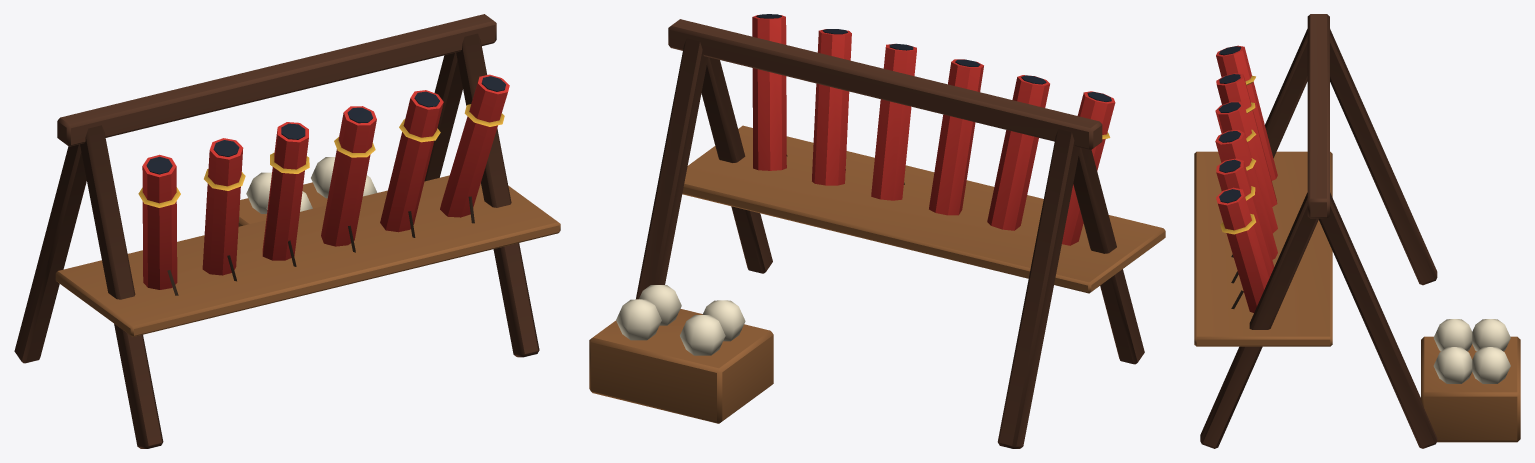
The model's file is fireworks-rack.glb.
3 renders of one model, left to right at view 1: azimuth 30°, elevation 25°; view 2: azimuth 150°, elevation 25°; view 3: azimuth 270°, elevation 25°, orthographic. The views are drawn at different scales.
Parts seen in each view (by area): view 1: Fireworks rack Dark wood, Fireworks rack Wood, Fireworks rack Fabric red, Fireworks rack Tube inside, Fireworks rack Cream paint, Fireworks rack Mustard paint, Fireworks rack Fuse; view 2: Fireworks rack Wood, Fireworks rack Dark wood, Fireworks rack Fabric red, Fireworks rack Cream paint, Fireworks rack Tube inside; view 3: Fireworks rack Dark wood, Fireworks rack Wood, Fireworks rack Fabric red, Fireworks rack Cream paint, Fireworks rack Tube inside, Fireworks rack Mustard paint.
Part boxes in pixels (left/top/right/bottom): Fireworks rack Dark wood: left=14, top=14, right=539, bottom=448; Fireworks rack Wood: left=55, top=175, right=560, bottom=336; Fireworks rack Fabric red: left=142, top=74, right=509, bottom=289; Fireworks rack Tube inside: left=146, top=76, right=505, bottom=174; Fireworks rack Cream paint: left=246, top=157, right=377, bottom=213; Fireworks rack Mustard paint: left=138, top=104, right=504, bottom=207; Fireworks rack Fuse: left=167, top=196, right=474, bottom=295; Fireworks rack Wood: left=589, top=125, right=1165, bottom=423; Fireworks rack Dark wood: left=636, top=19, right=1144, bottom=448; Fireworks rack Fabric red: left=752, top=15, right=1115, bottom=245; Fireworks rack Cream paint: left=616, top=285, right=745, bottom=355; Fireworks rack Tube inside: left=756, top=14, right=1111, bottom=101; Fireworks rack Dark wood: left=1200, top=14, right=1437, bottom=448; Fireworks rack Wood: left=1194, top=151, right=1520, bottom=442; Fireworks rack Fabric red: left=1215, top=45, right=1277, bottom=312; Fireworks rack Cream paint: left=1433, top=319, right=1510, bottom=383; Fireworks rack Tube inside: left=1218, top=46, right=1241, bottom=203; Fireworks rack Mustard paint: left=1220, top=75, right=1256, bottom=234.
Size of the model in its own units: 1.6 by 1.03 by 1.18.
